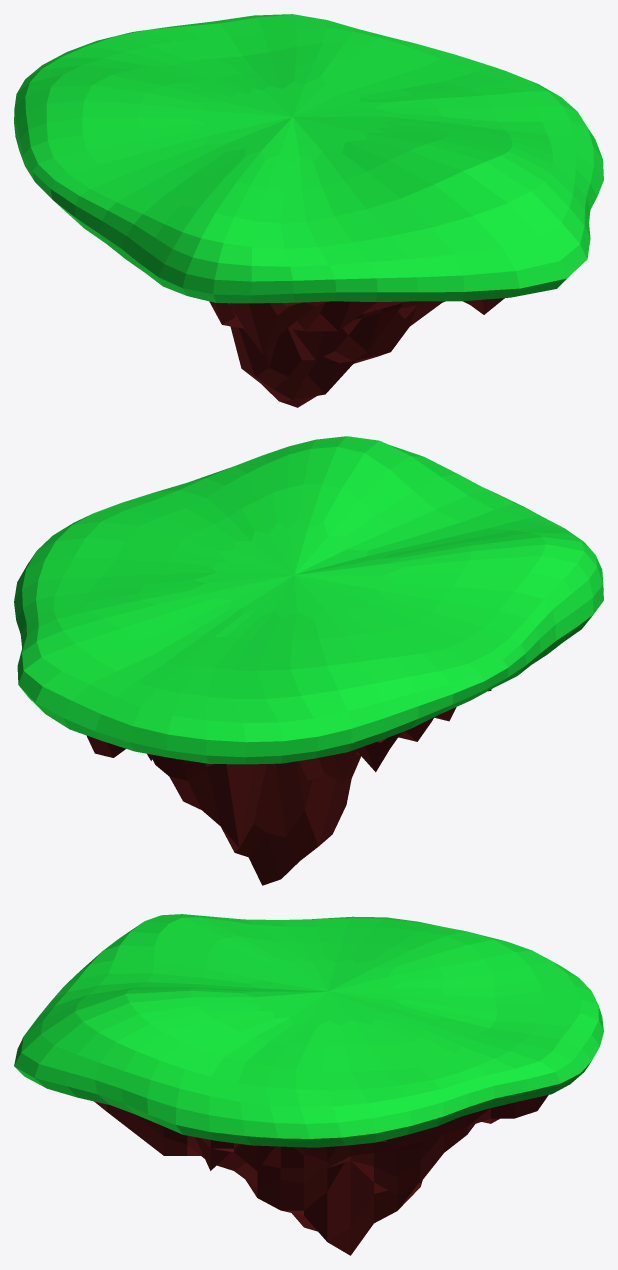
File: Island.fbx
3 renders of one model, top to bottom at view 1: azimuth 30°, elevation 25°; view 2: azimuth 150°, elevation 25°; view 3: azimuth 270°, elevation 25°, orthographic. The views are drawn at different scales.
Visible parts, largest first — view 1: Окружность, Сетка; view 2: Окружность, Сетка; view 3: Окружность, Сетка.
Part boxes in pixels (x1,y1,x2,y2): Окружность: (14,14,603,303); Сетка: (209,298,504,407); Окружность: (14,436,603,764); Сетка: (86,689,491,885); Окружность: (14,914,603,1147); Сетка: (94,1095,548,1255).
Size of the model in its own units: 7894 by 5056 by 9785.
